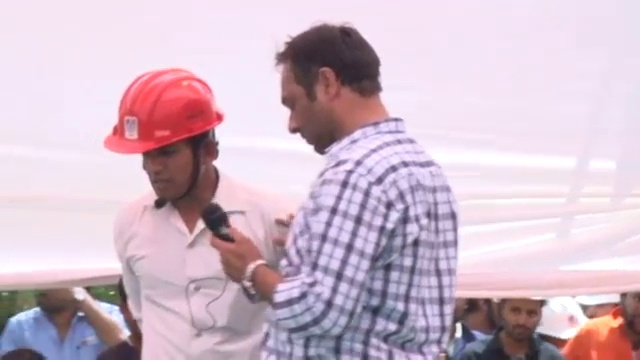helmet: (103, 65, 229, 156), (534, 295, 591, 341)
helmet_off: (271, 26, 395, 156), (497, 299, 547, 343), (31, 284, 77, 319), (616, 288, 640, 334)
helmet_on: (105, 66, 227, 205)
person: (215, 28, 460, 360), (105, 65, 293, 358), (0, 283, 132, 360), (455, 300, 560, 360), (562, 289, 640, 360)
